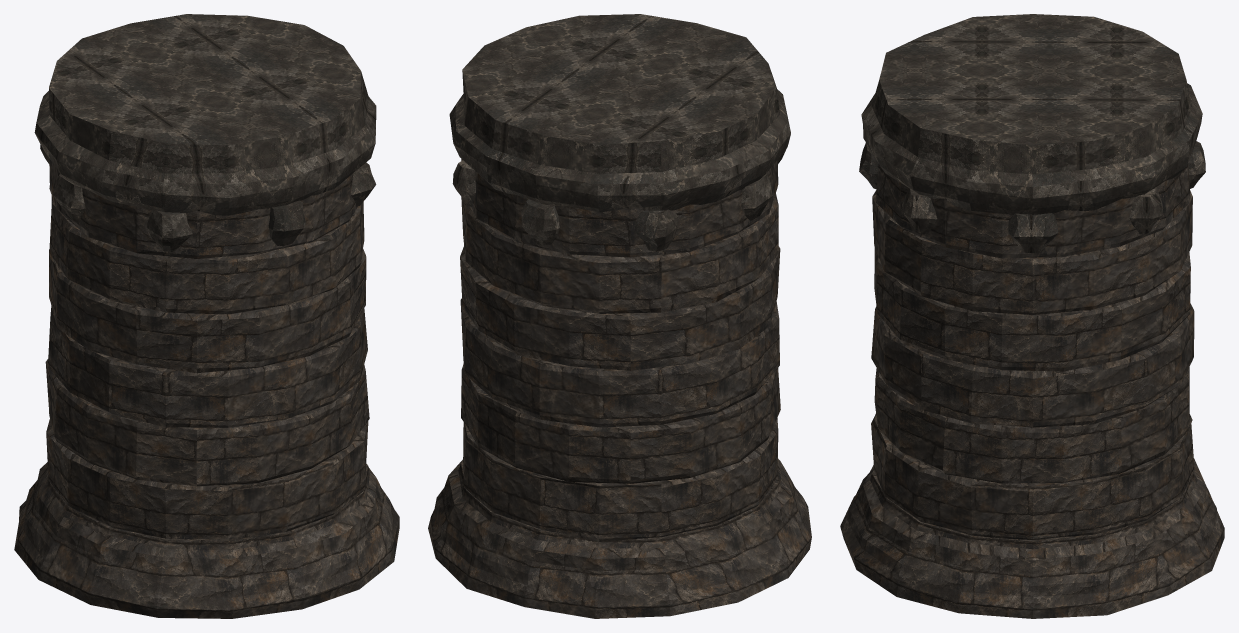
Rendered from training_ruin_pillar.glb.
The picture shows the model from 3 angles, left to right: view 1: azimuth 30°, elevation 25°; view 2: azimuth 150°, elevation 25°; view 3: azimuth 270°, elevation 25°; orthographic projection.
Visible parts, largest first — view 1: Training Ruin Pillar Mesh; view 2: Training Ruin Pillar Mesh; view 3: Training Ruin Pillar Mesh.
Boxes of the visible parts, left/top/right/bottom form: Training Ruin Pillar Mesh: left=14, top=14, right=399, bottom=618; Training Ruin Pillar Mesh: left=428, top=14, right=811, bottom=618; Training Ruin Pillar Mesh: left=840, top=14, right=1224, bottom=618.
Bounding box in the file's own units: 3.59 × 4.71 × 3.56.
Materials: 3 (3 with a texture image).
